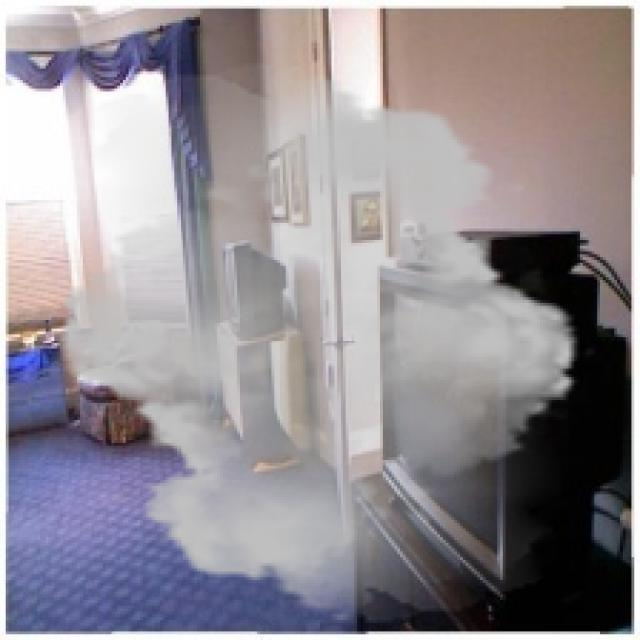Smoke: (37, 63, 600, 623)
